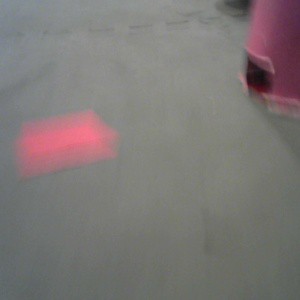right: (238, 1, 300, 117)
